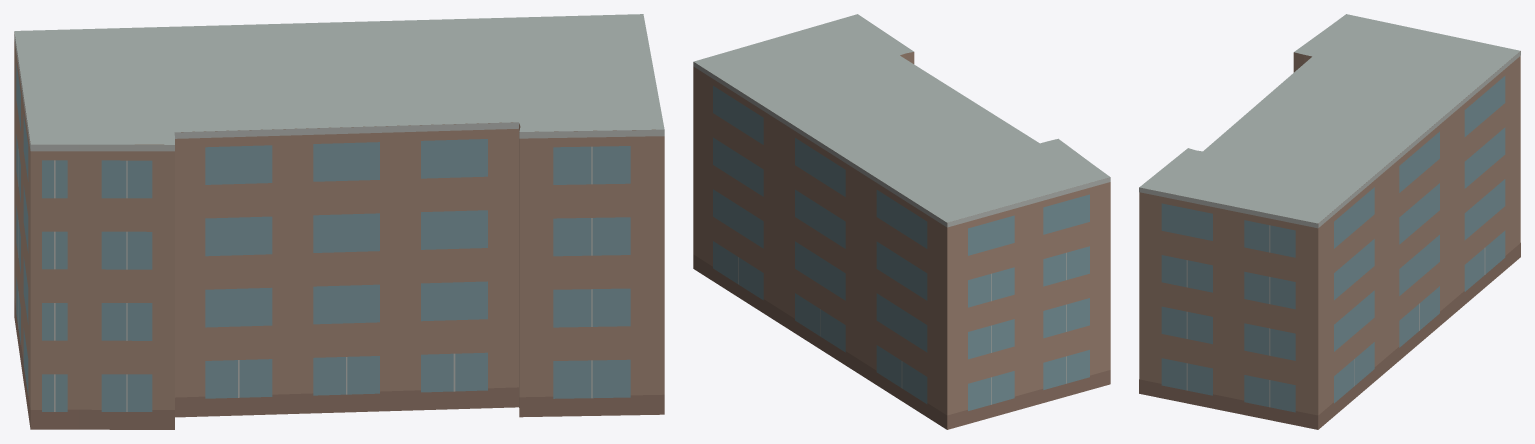
Rendered from survey-upis-32893113.glb.
3 views of the same model, side by side, from view 1: azimuth 30°, elevation 25°; view 2: azimuth 150°, elevation 25°; view 3: azimuth 270°, elevation 25° (orthographic). The views are drawn at different scales.
Parts seen in each view (by area): view 1: survey-upis-32893113.tmp; view 2: survey-upis-32893113.tmp; view 3: survey-upis-32893113.tmp.
Part boxes in pixels (left/top/right/bottom): survey-upis-32893113.tmp: left=14, top=14, right=664, bottom=429; survey-upis-32893113.tmp: left=693, top=14, right=1110, bottom=429; survey-upis-32893113.tmp: left=1139, top=14, right=1520, bottom=429.
Bounding box in the file's own units: 22.99 × 10.55 × 17.69.
